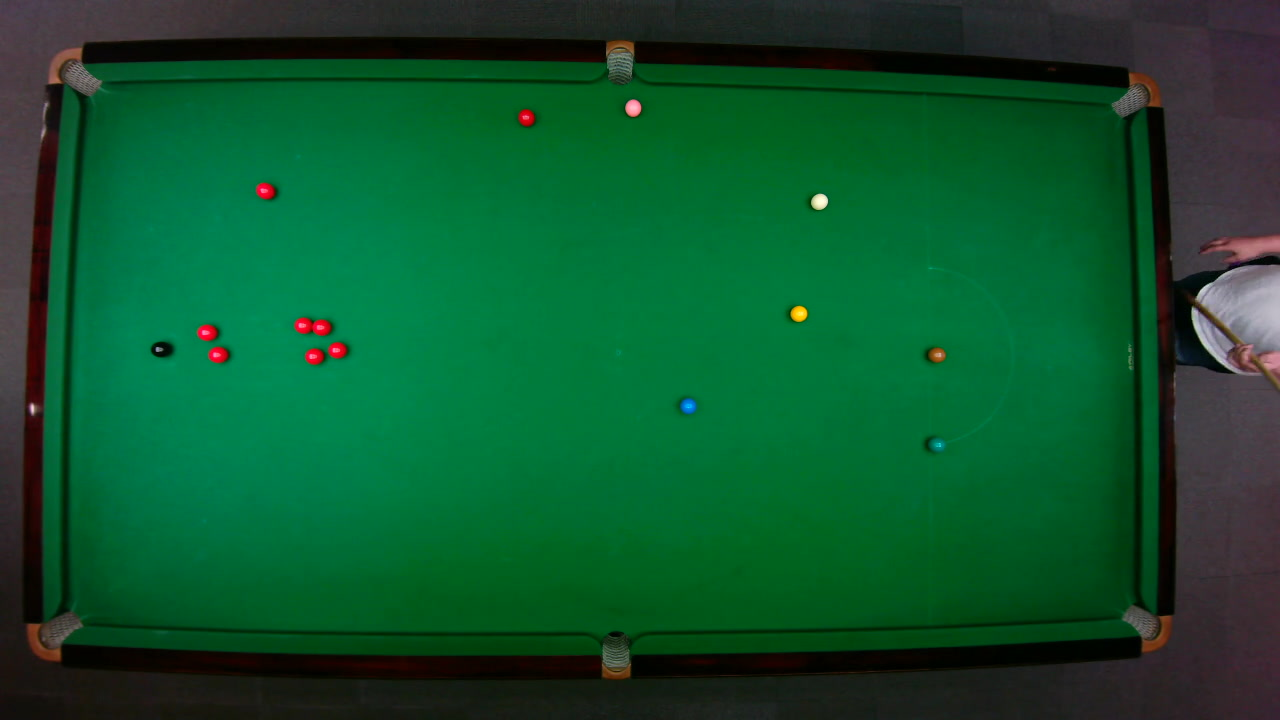bag: (25, 609, 84, 661), (45, 46, 102, 96), (1119, 603, 1171, 652), (1108, 71, 1161, 118), (600, 629, 630, 680), (605, 38, 633, 85)
black: (148, 340, 171, 357)
blue: (679, 397, 697, 414)
brown: (926, 346, 945, 362)
green: (926, 434, 946, 452)
pink: (623, 97, 642, 117)
red: (195, 322, 218, 341), (254, 181, 276, 200), (206, 345, 229, 363), (292, 315, 313, 334), (516, 107, 535, 127), (303, 347, 324, 365), (327, 340, 347, 358), (311, 318, 332, 335)
white: (808, 192, 828, 210)
yellow: (789, 304, 808, 322)
zone: (926, 265, 1013, 445)
